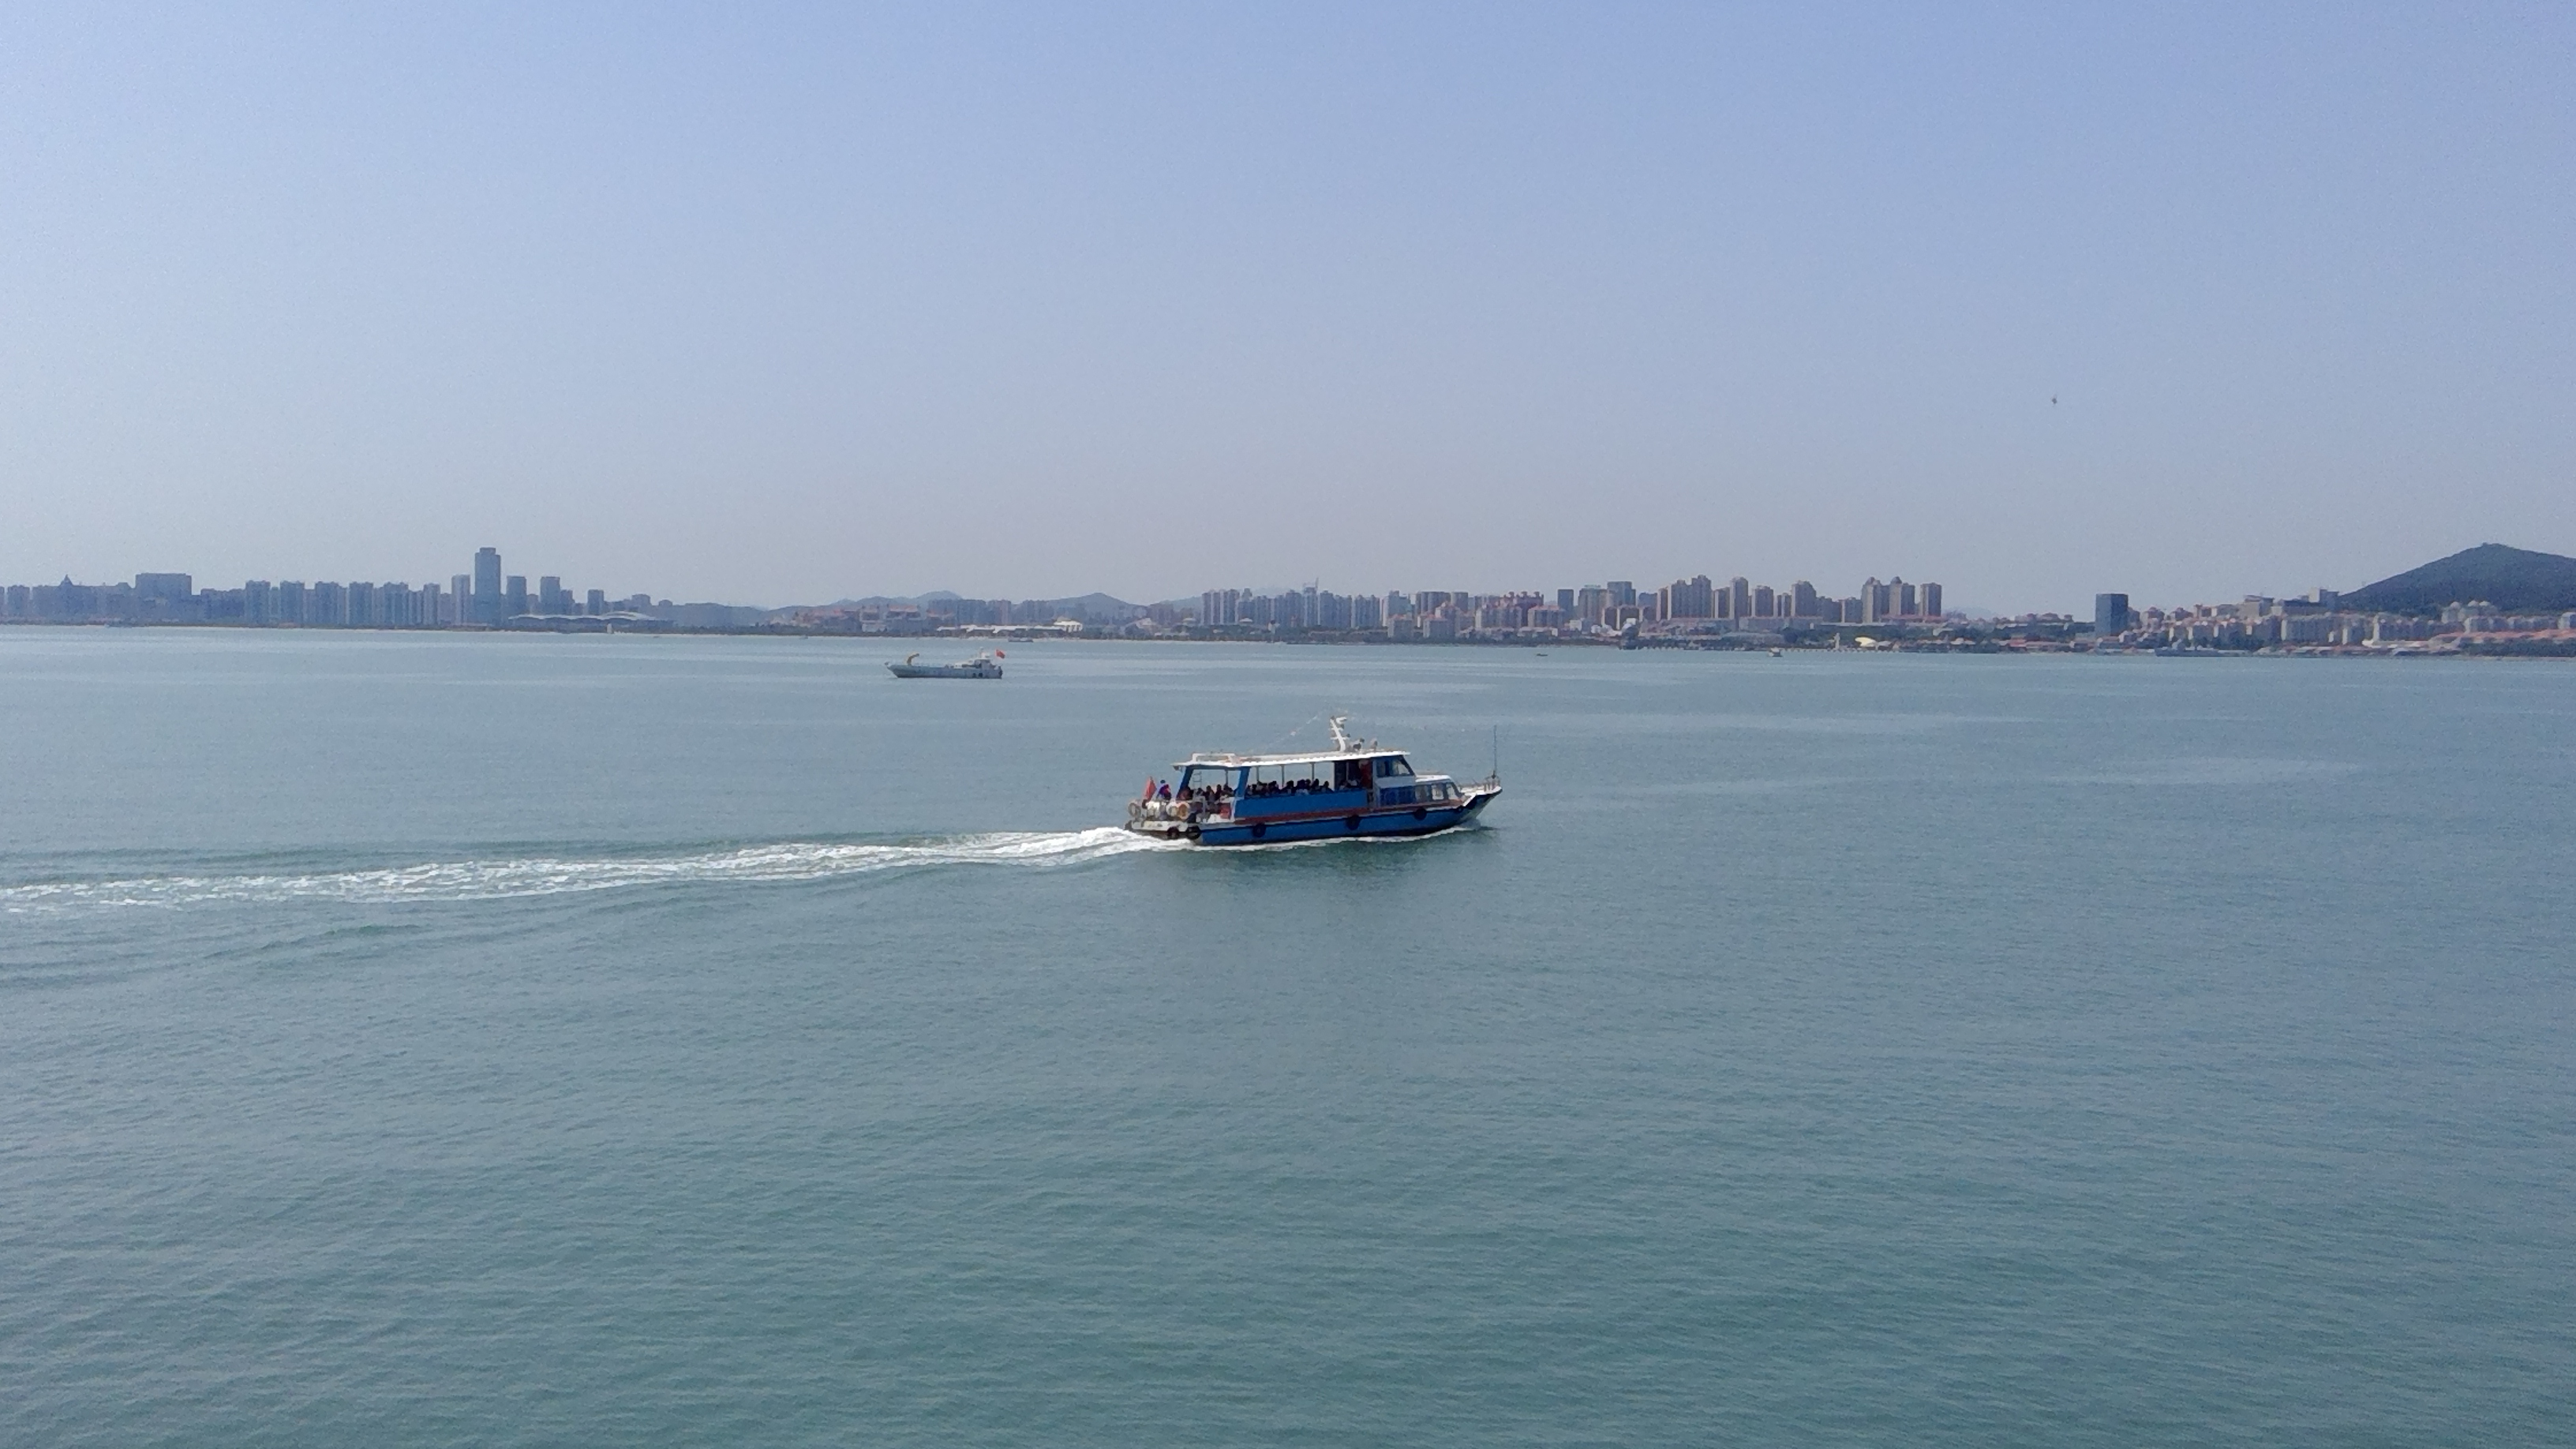ship: (1120, 722, 1509, 855), (878, 642, 1023, 699)
